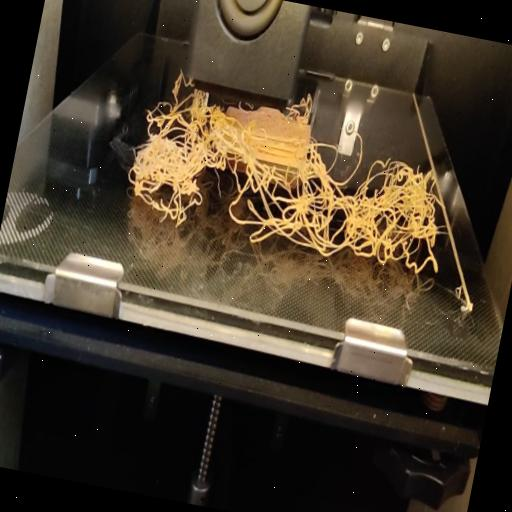spaghetti: (121, 70, 465, 277)
